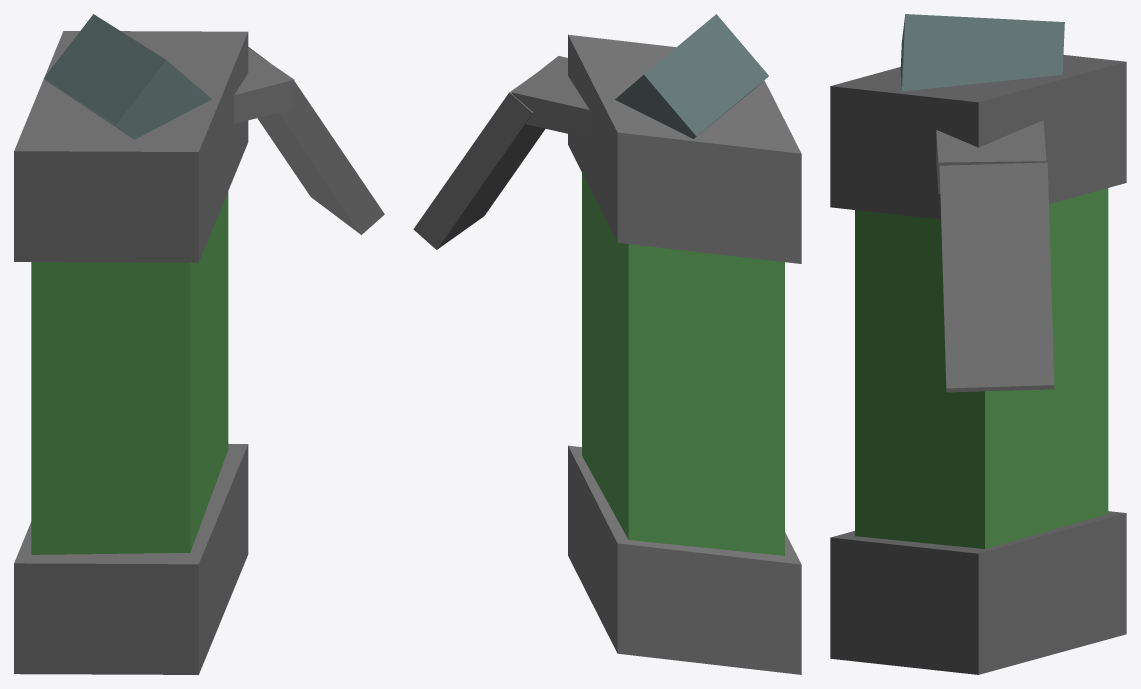
File: flashbang.fbx
3 views of the same model, side by side, from view 1: azimuth 30°, elevation 25°; view 2: azimuth 150°, elevation 25°; view 3: azimuth 270°, elevation 25° (orthographic). The views are drawn at different scales.
Parts seen in each view (by area): view 1: Cube, Cube.002, Cube.001, Cube.003, Cube.005, Cube.004; view 2: Cube, Cube.002, Cube.001, Cube.003, Cube.005, Cube.004; view 3: Cube, Cube.001, Cube.002, Cube.005, Cube.003, Cube.004.
Part boxes in pixels (x1,y1,x2,y2): Cube: (31,191,228,554); Cube.002: (14,31,248,262); Cube.001: (14,443,248,674); Cube.003: (44,14,211,139); Cube.005: (248,47,384,234); Cube.004: (234,48,294,123); Cube: (582,173,784,555); Cube.002: (568,34,801,263); Cube.001: (568,445,801,674); Cube.003: (615,14,768,138); Cube.005: (413,73,545,249); Cube.004: (512,56,589,138); Cube: (855,188,1108,548); Cube.001: (830,511,1126,674); Cube.002: (830,55,1126,219); Cube.005: (939,162,1054,392); Cube.003: (900,14,1064,91); Cube.004: (936,120,1046,193).
Size of the model in its own units: 402 by 657 by 264.
